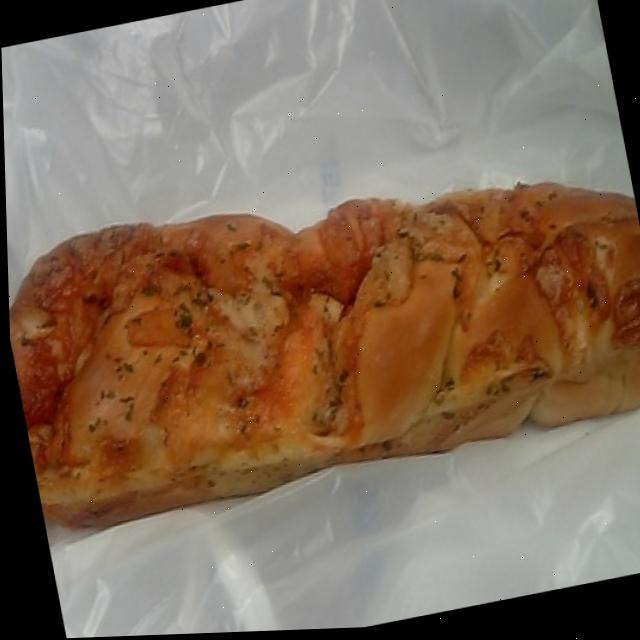三明治: (3, 114, 640, 524)
